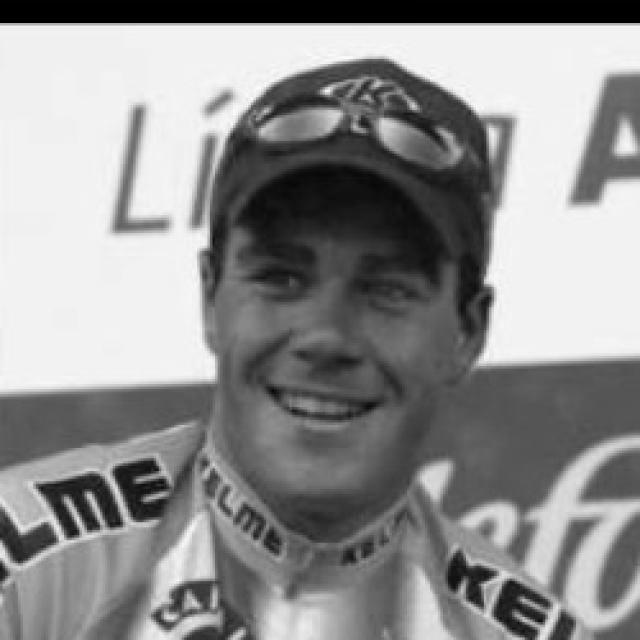real: (216, 184, 456, 504), (247, 245, 434, 321)
